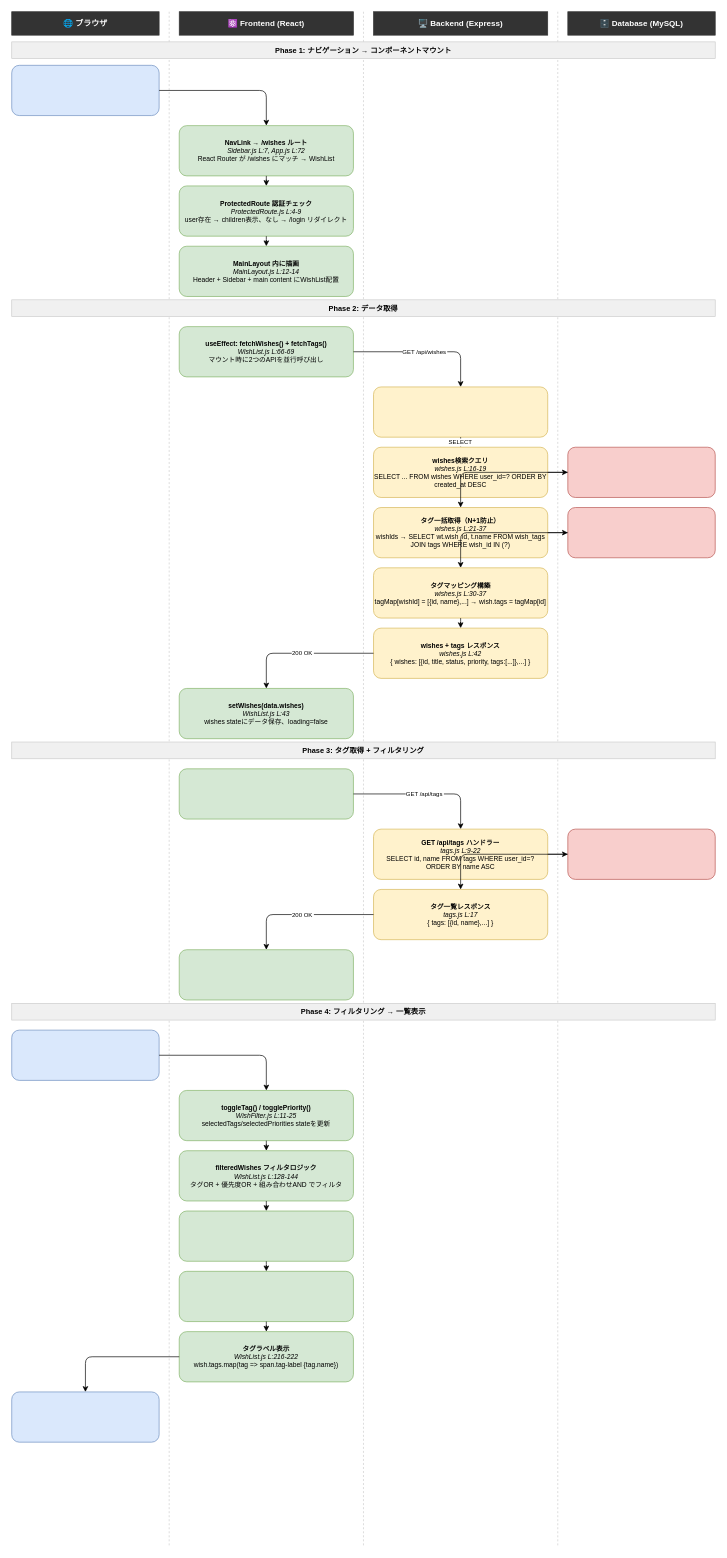
Image size: 727x1558. Some labels were removed from this diagram. Each missing label, with the centre of its shape:
fetchTags() 実行 WishList.js L:54-64 GET /api/tags → setAllTags(data.tags): point 266,793
GET /api/wishes ハンドラー wishes.js L:14 requireAuth → GET / async handler: point 460,411
tags テーブル検索 005_create_tags_tables.sql ユーザーのタグ一覧をname順で返却: point 641,853
wish-item 各要素描画 WishList.js L:199-234 タイトル + ステータスバッジ + 優先度バッジ + 期限: point 266,1296
wish_tags + tags JOIN 005_create_tags_tables.sql wishIdごとにタグ名をグルーピング: point 641,532
wishes テーブル検索 003_create_wishes_table.sql ユーザーのwish一覧をcreated_at降順で返却: point 641,472
WishFilter レンダリング WishFilter.js L:10-70 タグ/優先度のフィルターチップをラベル形式で表示: point 266,974
「やりたいこと」メニュークリック ブラウザ サイドバーのナビゲーションリンクをクリック: point 85,90
フィルターチップをクリック ブラウザ タグまたは優先度のラベルをクリックして選択/解除: point 85,1054
一覧レンダリング WishList.js L:196-237 filteredWishes.map(wish => wish-item表示): point 266,1235
一覧表示完了 ブラウザ フィルタ適用済みのwish一覧がタグ・バッジ付きで表示: point 85,1416
